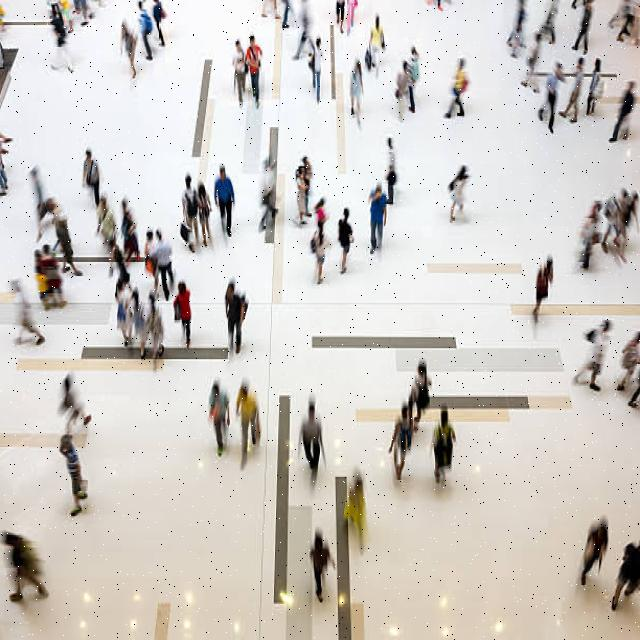humans: (1, 520, 49, 616), (567, 509, 611, 592), (5, 273, 50, 351), (230, 378, 264, 476), (572, 314, 614, 393), (56, 420, 88, 522), (44, 190, 78, 280), (428, 394, 457, 496), (534, 56, 570, 138), (609, 523, 640, 613), (385, 403, 416, 489), (442, 49, 474, 131), (302, 527, 336, 602), (340, 466, 368, 556), (573, 191, 603, 272), (296, 392, 324, 478), (43, 7, 73, 85), (606, 75, 638, 147), (222, 277, 250, 357), (206, 372, 230, 464), (600, 183, 629, 257), (57, 366, 90, 431), (332, 203, 358, 285), (256, 149, 280, 237), (366, 178, 391, 262), (171, 271, 195, 356), (405, 348, 436, 412), (365, 6, 390, 85), (444, 155, 472, 224), (613, 327, 640, 398), (150, 225, 174, 303), (213, 161, 236, 241), (559, 54, 584, 123), (530, 255, 555, 323), (181, 172, 201, 256), (96, 194, 119, 266), (110, 279, 132, 354), (80, 142, 105, 208), (583, 50, 607, 118), (306, 213, 327, 290), (118, 188, 140, 261), (392, 60, 415, 129), (520, 32, 544, 98), (246, 32, 265, 115), (292, 0, 314, 70), (29, 157, 47, 240), (303, 35, 324, 106), (131, 283, 149, 362), (384, 131, 401, 211), (140, 224, 159, 295), (198, 177, 216, 251), (40, 243, 61, 306), (406, 36, 422, 118), (346, 57, 363, 134), (30, 246, 49, 314), (230, 34, 244, 119), (136, 0, 154, 63), (120, 21, 136, 85), (147, 292, 161, 364), (295, 162, 308, 232), (301, 148, 315, 204), (308, 186, 330, 220), (628, 184, 640, 232)
